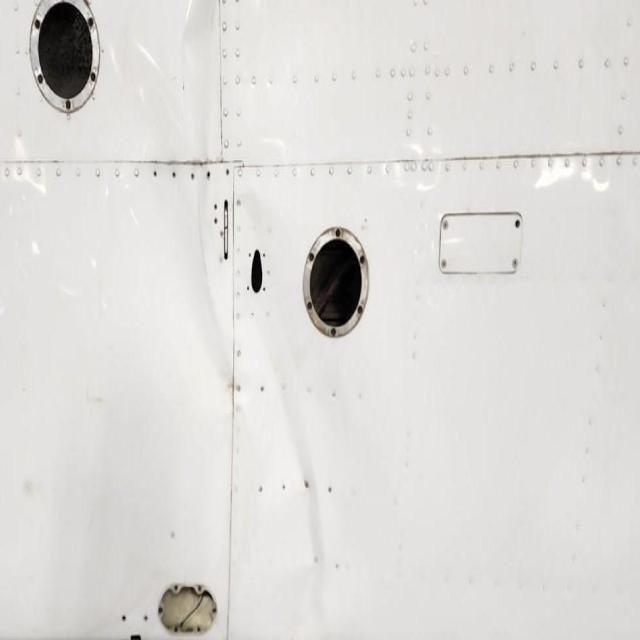Dent: (274, 367, 327, 616), (183, 198, 233, 403)
